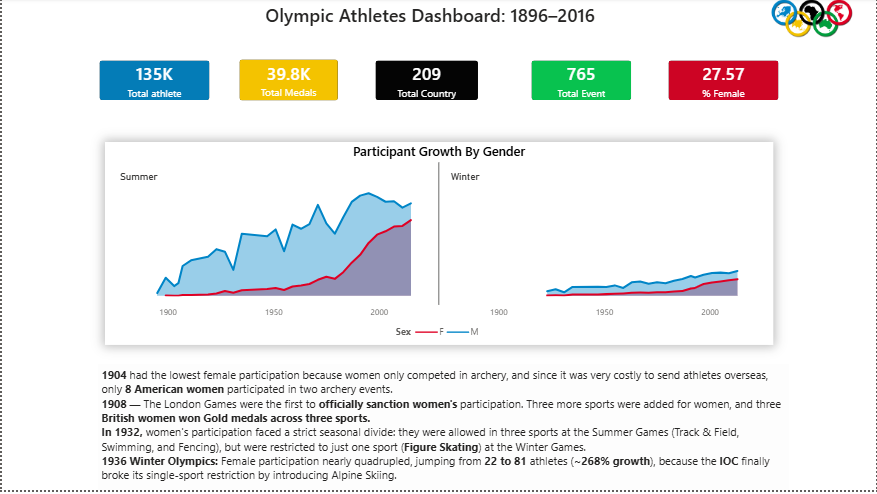

Layout of this report page (visuals, bound fields, positions):
{"tool":"powerbi","page":{"name":"Overview","canvas":[1280,720],"ordinal":0},"visuals":[{"type":"areaChart","title":"Participant Growth By Gender","fields":{"Category":["Olympics1896-2016.Year"],"Series":["Olympics1896-2016.Sex"],"Y":["Olympics1896-2016.Total athlete"],"Rows":["Olympics1896-2016.Season"]},"box":[150.7,210.7,977.6,297.1],"z":0},{"type":"image","box":[1088.8,1.5,191.7,55.6],"z":1000},{"type":"textbox","box":[374.4,0,531.2,57.1],"z":2000},{"type":"cardVisual","fields":{"Data":["Olympics1896-2016.Total athlete"]},"box":[134.6,82.9,177.1,74.6],"z":3000},{"type":"cardVisual","fields":{"Data":["Olympics1896-2016.Total Medals"]},"box":[339.5,82,161,76.1],"z":4000},{"type":"cardVisual","fields":{"Data":["Olympics1896-2016.% Female Participation"]},"box":[967.3,82.9,177.1,74.6],"z":5000},{"type":"cardVisual","fields":{"Data":["Count(Olympics1896-2016.Event)"]},"box":[766.8,82.9,162.4,74.6],"z":6000},{"type":"cardVisual","fields":{"Data":["Count(Olympics1896-2016.Modern_Country)"]},"box":[538.5,82.9,166.8,74.6],"z":7000},{"type":"textbox","box":[140.5,535.6,1011.2,184.4],"z":8000}]}

Visuals, with their boxes in screenshot pixels (x1, y1, x2, y2), scaled from the page's 1280x720 canvas onto the 877x494 screenshot:
"Participant Growth By Gender" areaChart: x1=103 y1=145 x2=773 y2=348
image: x1=746 y1=1 x2=876 y2=39
textbox: x1=257 y1=0 x2=620 y2=39
cardVisual - Olympics1896-2016.Total athlete: x1=92 y1=57 x2=214 y2=108
cardVisual - Olympics1896-2016.Total Medals: x1=233 y1=56 x2=343 y2=108
cardVisual - Olympics1896-2016.% Female Participation: x1=663 y1=57 x2=784 y2=108
cardVisual - Count(Olympics1896-2016.Event): x1=525 y1=57 x2=637 y2=108
cardVisual - Count(Olympics1896-2016.Modern_Country): x1=369 y1=57 x2=483 y2=108
textbox: x1=96 y1=367 x2=789 y2=493
